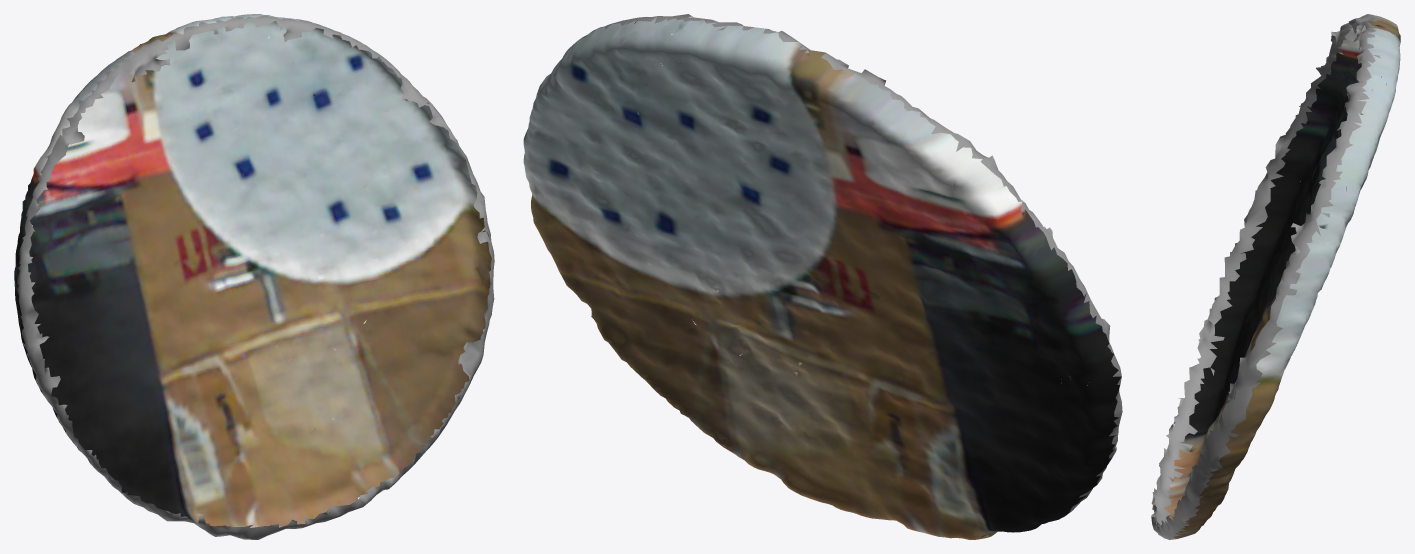
File: meshDefinition_phantom5.obj
3 views of the same model, side by side, from view 1: azimuth 30°, elevation 25°; view 2: azimuth 150°, elevation 25°; view 3: azimuth 270°, elevation 25° (orthographic). The views are drawn at different scales.
Size of the model in its own units: 0.1747 by 0.1622 by 0.0769.
